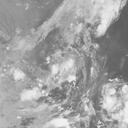cyclone: (35, 38, 95, 97)
